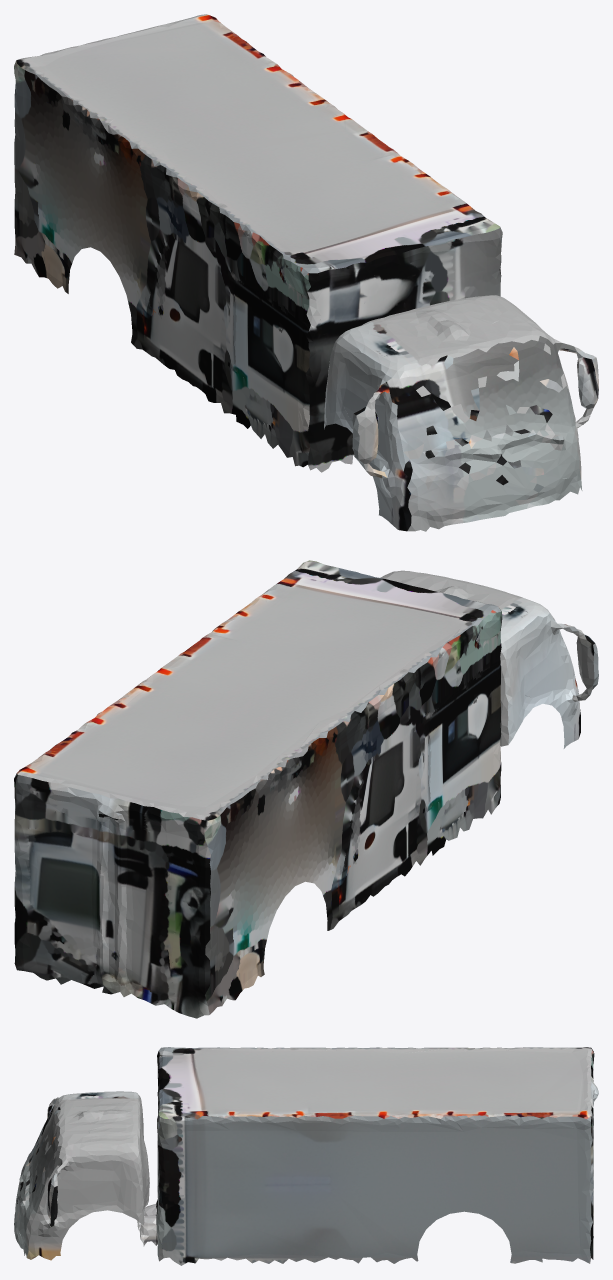
The model's file is bau-rodagem.glb.
3 views of the same model, one above another, from view 1: azimuth 30°, elevation 25°; view 2: azimuth 150°, elevation 25°; view 3: azimuth 270°, elevation 25° (orthographic). The views are drawn at different scales.
Parts seen in each view (by area): view 1: geometry_0; view 2: geometry_0; view 3: geometry_0.
Part boxes in pixels (x1,y1,x2,y2): geometry_0: (14, 14, 598, 531); geometry_0: (14, 560, 598, 1018); geometry_0: (14, 1047, 598, 1265).
Bounding box in the file's own units: 0.7042 × 0.5594 × 1.97.
Materials: 1 (1 with a texture image).
